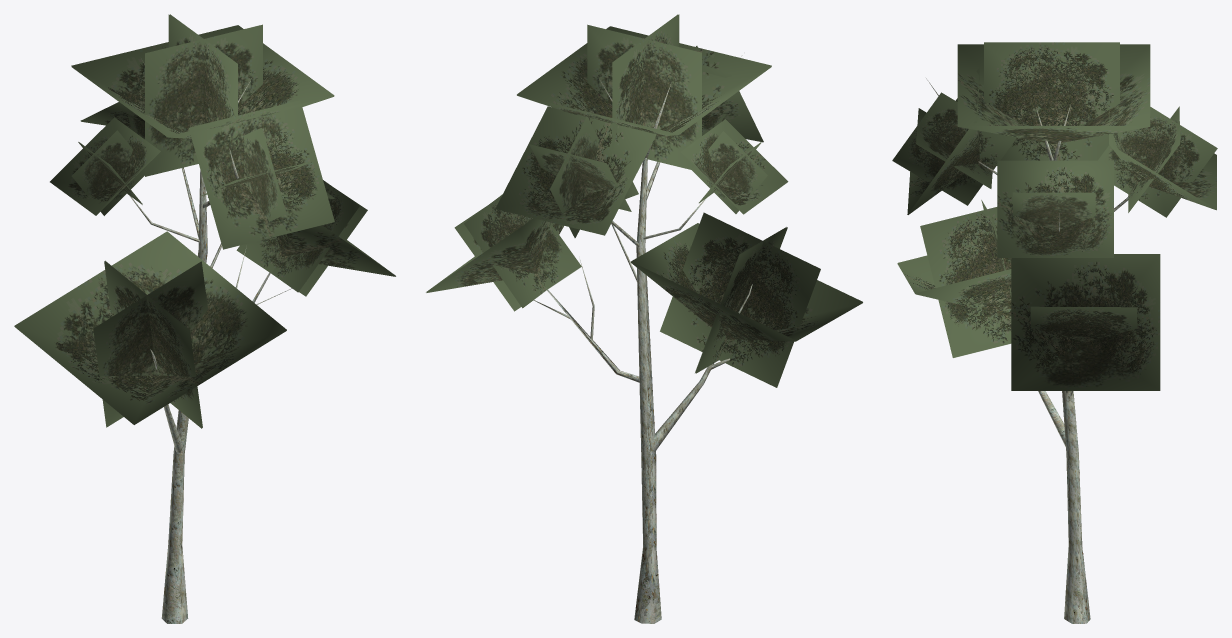
The model's file is ever_eucalyptus_med_l2.fbx.
3 renders of one model, left to right at view 1: azimuth 30°, elevation 25°; view 2: azimuth 150°, elevation 25°; view 3: azimuth 270°, elevation 25°, orthographic. The views are drawn at different scales.
Parts seen in each view (by area): view 1: mesh_node; view 2: mesh_node; view 3: mesh_node.
Boxes of the visible parts, box(x1,y1,x2,y2) form: mesh_node: box(14, 14, 395, 623); mesh_node: box(426, 14, 862, 623); mesh_node: box(892, 42, 1217, 623).
Bounding box in the file's own units: 10.61 × 16.82 × 8.5.
